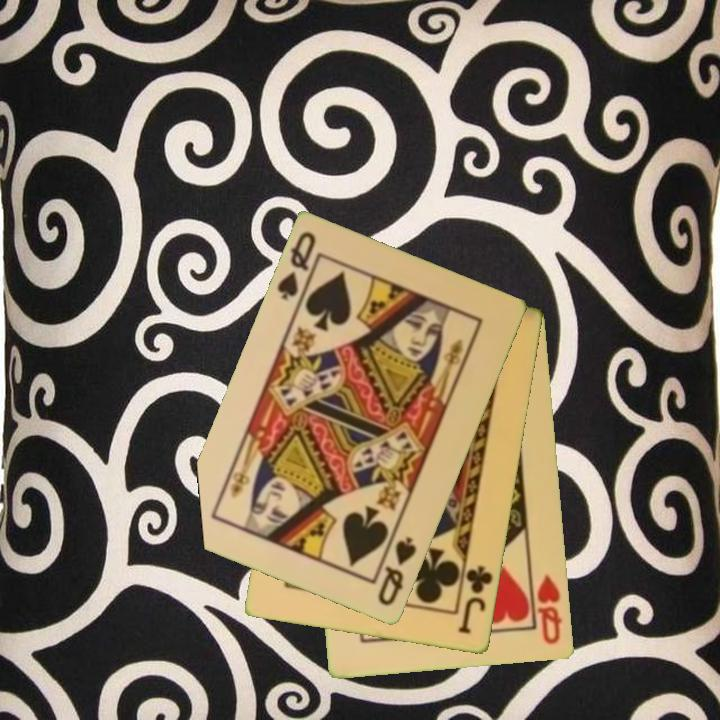Jc: (455, 563, 496, 638)
Qh: (534, 571, 566, 648)
Qs: (374, 534, 420, 609), (274, 228, 319, 304)
